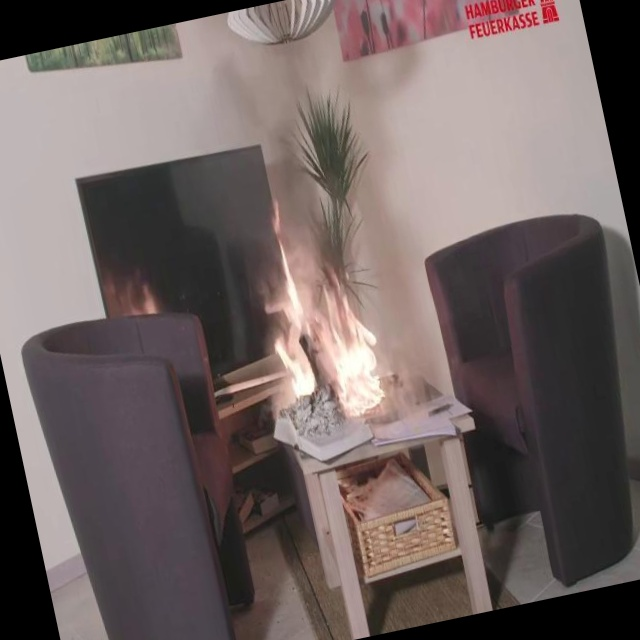fire: (238, 180, 413, 430)
